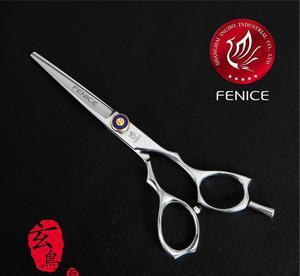scissor: (26, 45, 265, 250)
